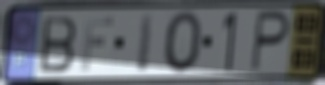1: (221, 10, 238, 73)
B: (38, 14, 79, 75)
F: (79, 15, 116, 73)
I: (135, 11, 156, 75)
O: (163, 9, 204, 76)
P: (249, 8, 292, 74)
